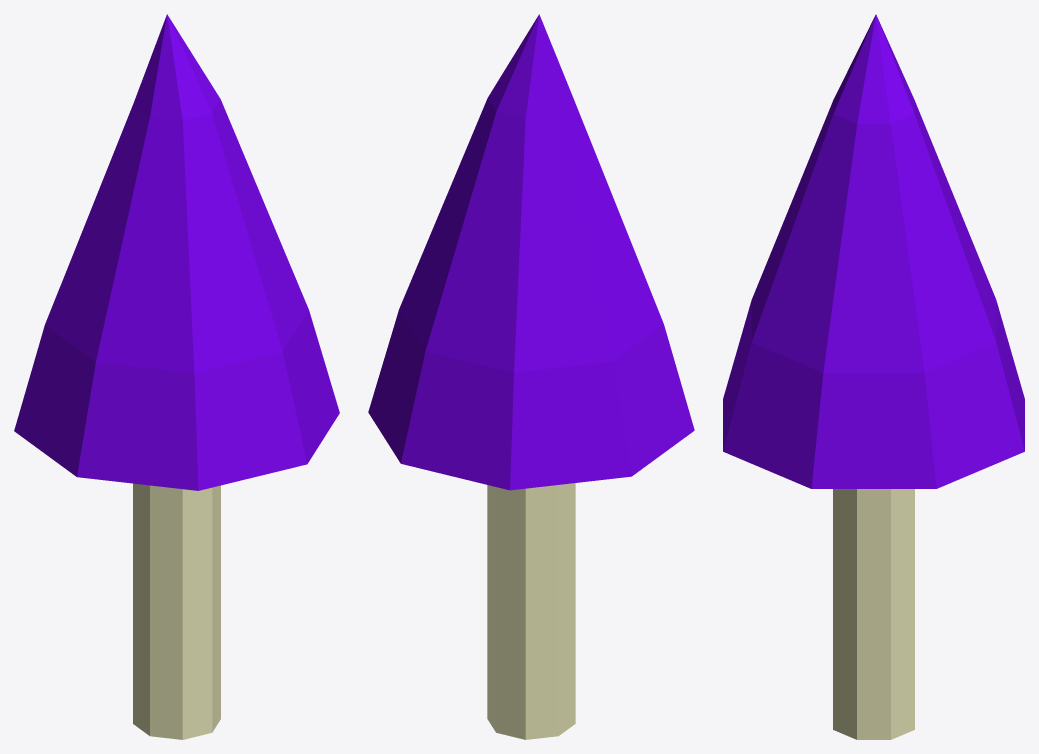
The model's file is Cave_Lair_Vegetation_Swamp_Mushroom_Pointy_01.fbx.
The picture shows the model from 3 angles, left to right: view 1: azimuth 30°, elevation 25°; view 2: azimuth 150°, elevation 25°; view 3: azimuth 270°, elevation 25°; orthographic projection.
Parts seen in each view (by area): view 1: Cave_Lair_Vegetation_Swamp_Mushroom_Pointy_01; view 2: Cave_Lair_Vegetation_Swamp_Mushroom_Pointy_01; view 3: Cave_Lair_Vegetation_Swamp_Mushroom_Pointy_01.
Part boxes in pixels (x1,y1,x2,y2): Cave_Lair_Vegetation_Swamp_Mushroom_Pointy_01: [14, 14, 339, 739]; Cave_Lair_Vegetation_Swamp_Mushroom_Pointy_01: [368, 14, 694, 739]; Cave_Lair_Vegetation_Swamp_Mushroom_Pointy_01: [723, 14, 1024, 739].
Bounding box in the file's own units: 0.2417 × 0.6224 × 0.2417.
